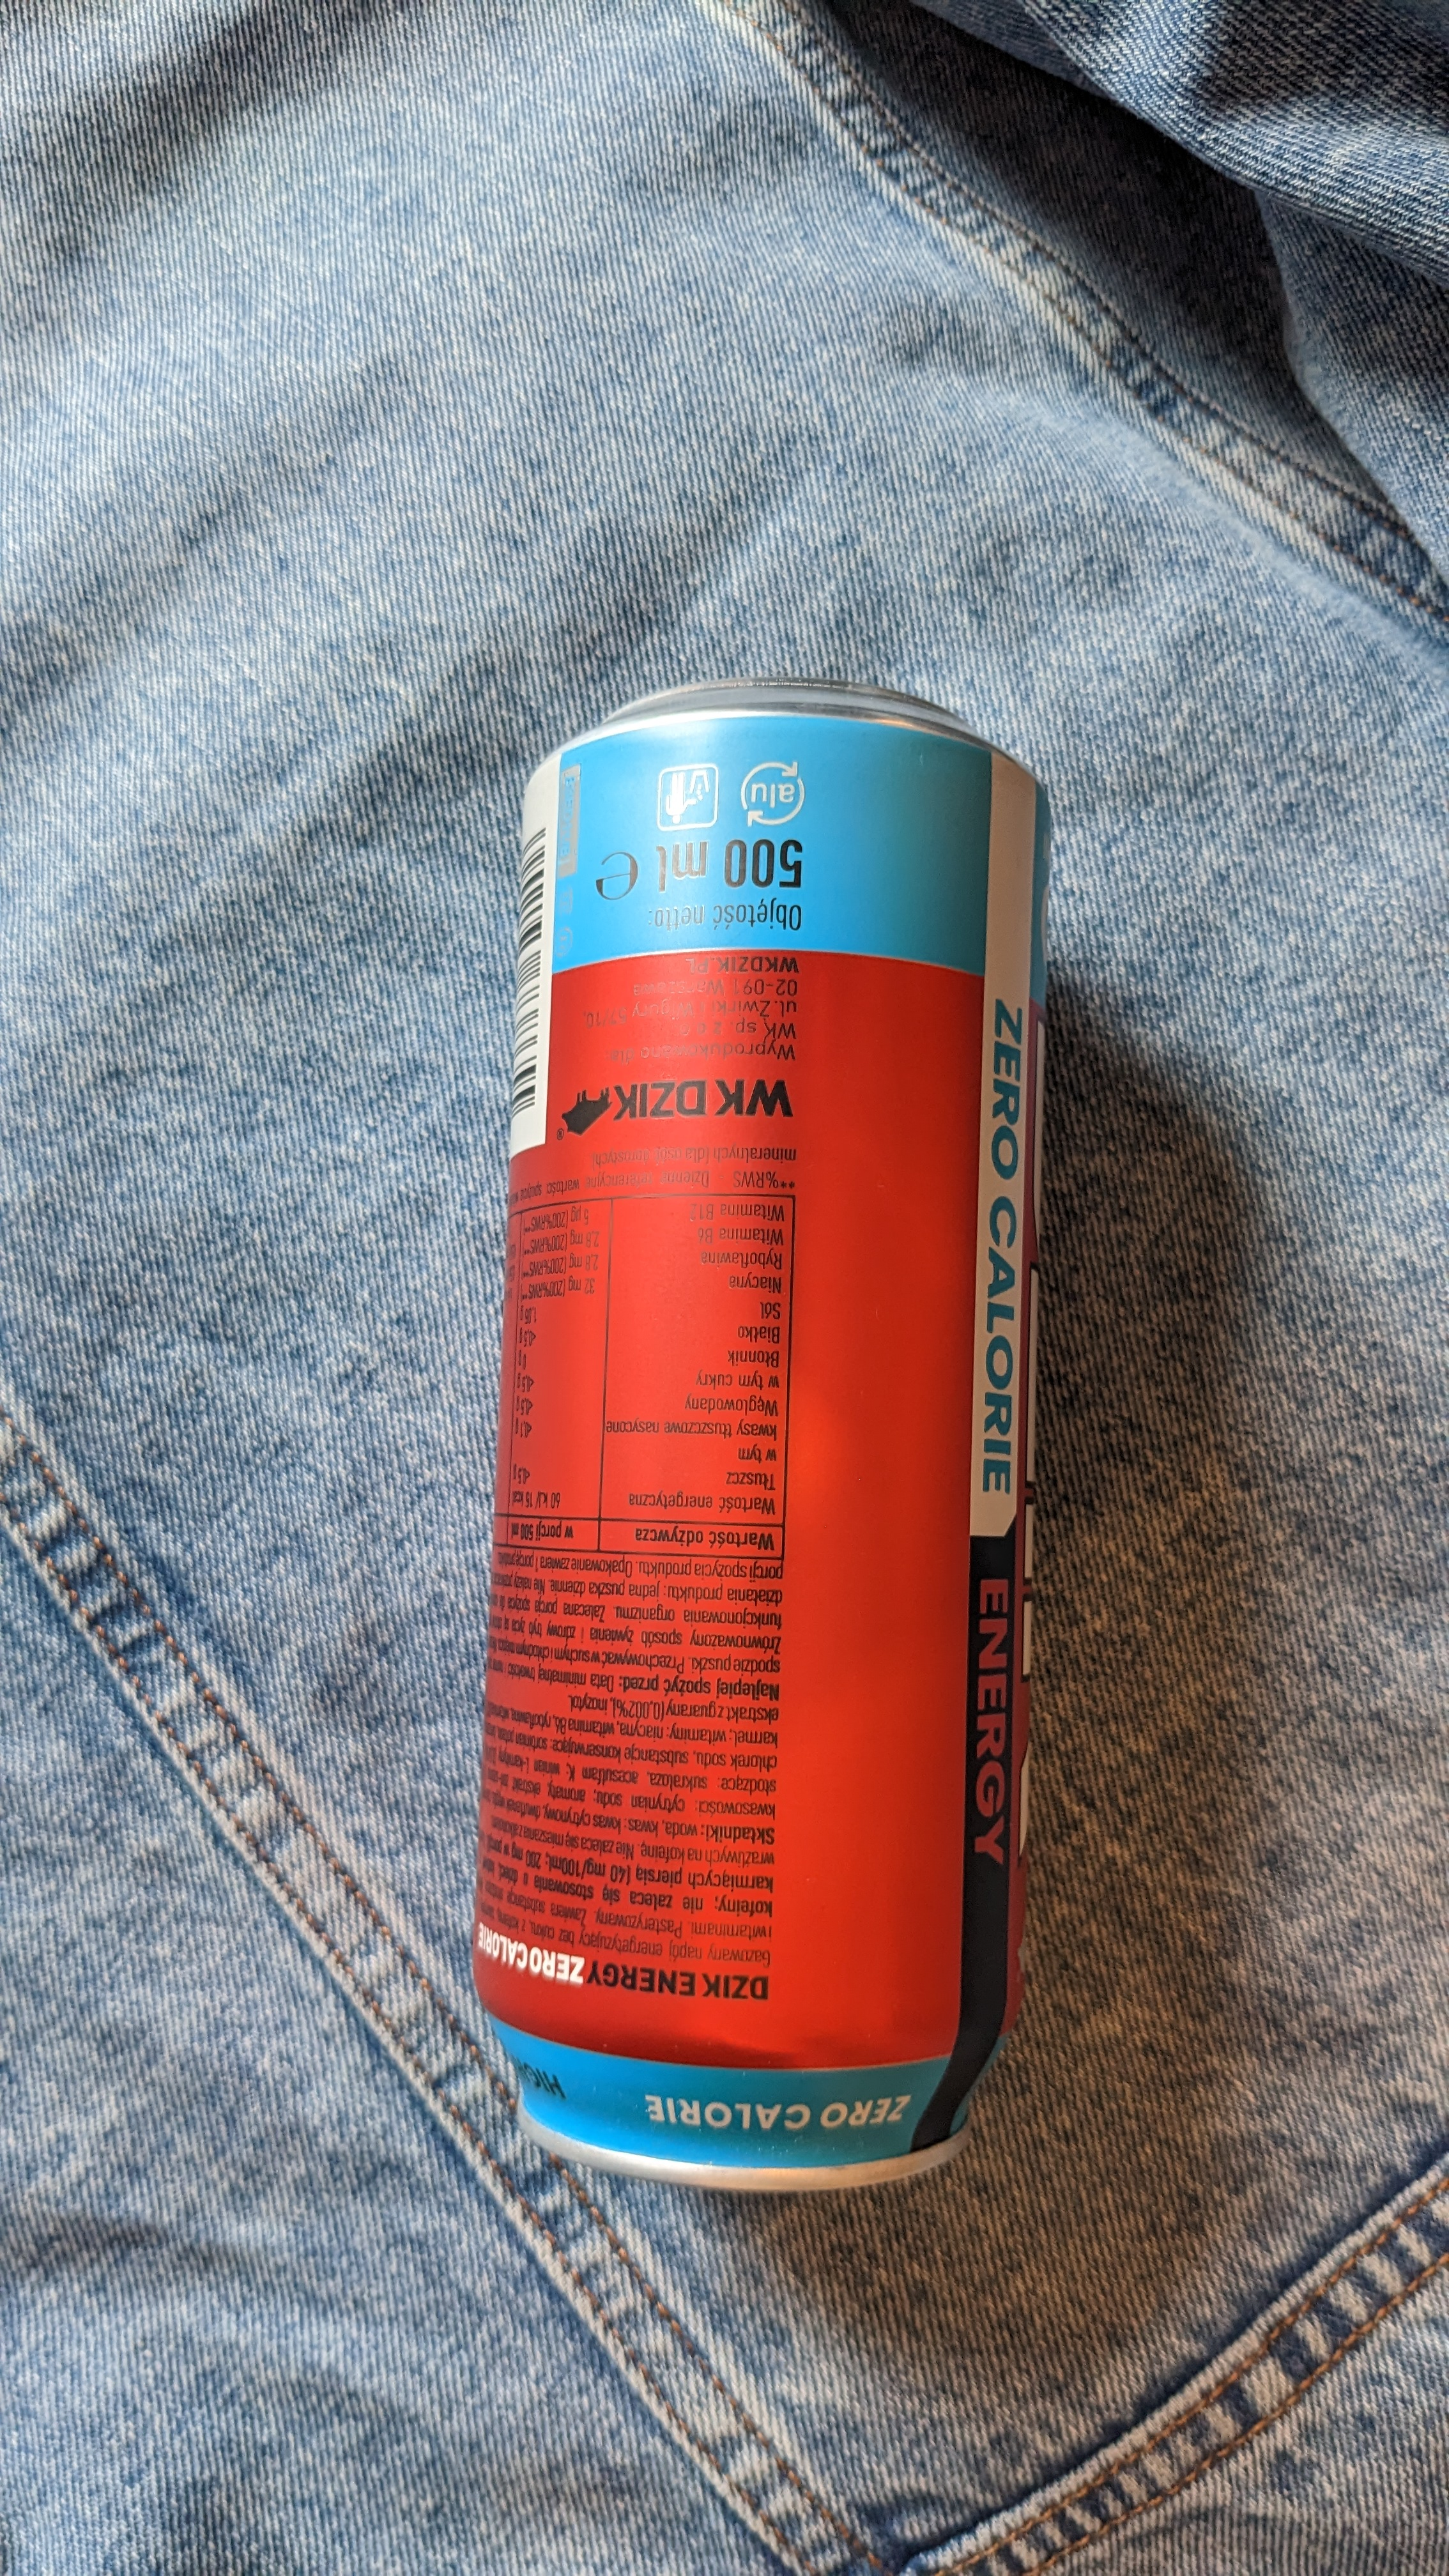dzik: (467, 690, 1051, 2206)
